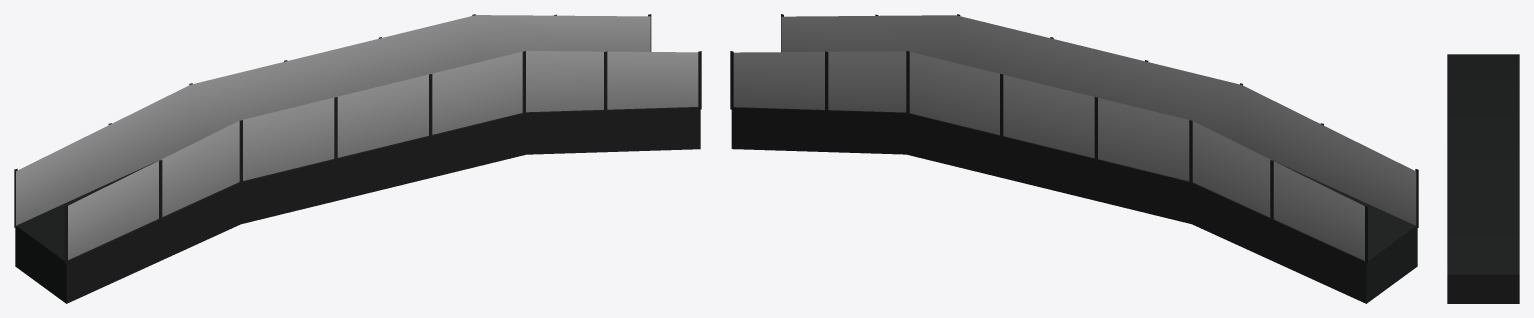
Rendered from AMB_MIKAGE_BRIDGE.glb.
The picture shows the model from 3 angles, left to right: view 1: azimuth 30°, elevation 25°; view 2: azimuth 150°, elevation 25°; view 3: azimuth 270°, elevation 25°; orthographic projection. The views are drawn at different scales.
Parts seen in each view (by area): view 1: BASE; view 2: BASE; view 3: BASE.
Part boxes in pixels (<box>): BASE: <box>14,14,701,303</box>; BASE: <box>730,14,1418,303</box>; BASE: <box>1447,54,1519,303</box>.
Size of the model in its own units: 80.37 by 16.93 by 11.16.
2 materials, 2 textured.
